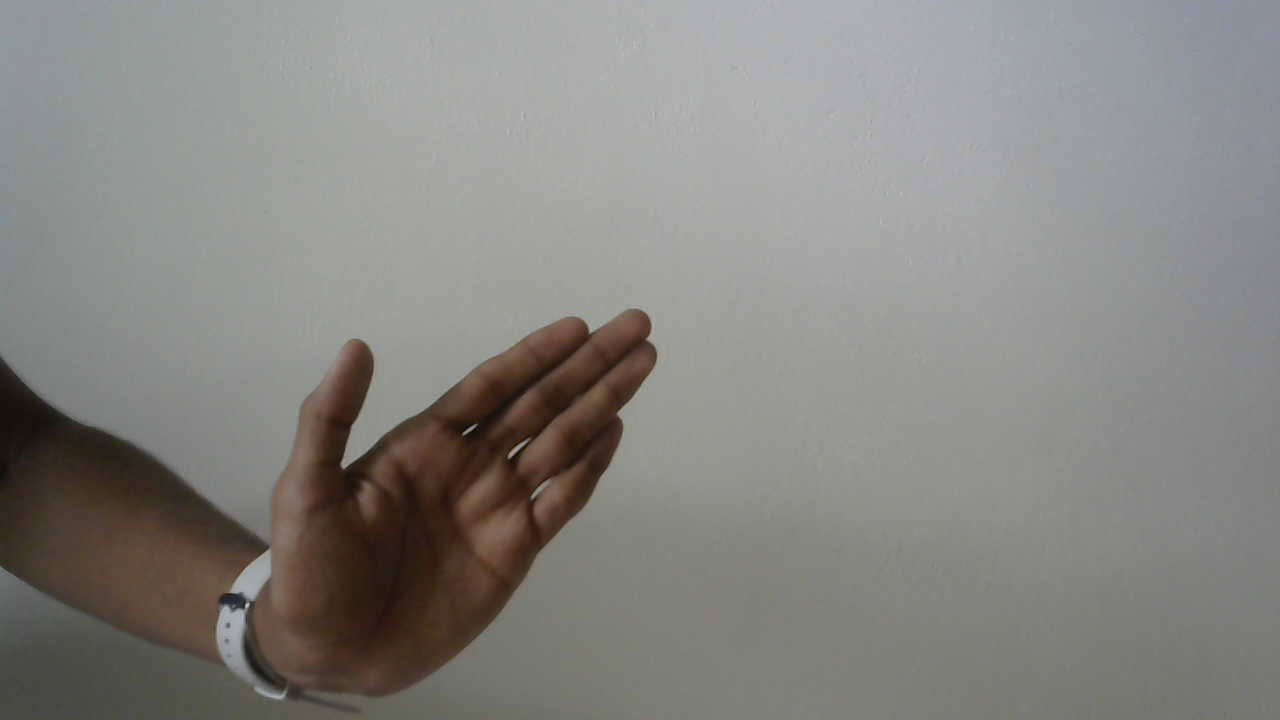hello: (256, 300, 675, 708)
